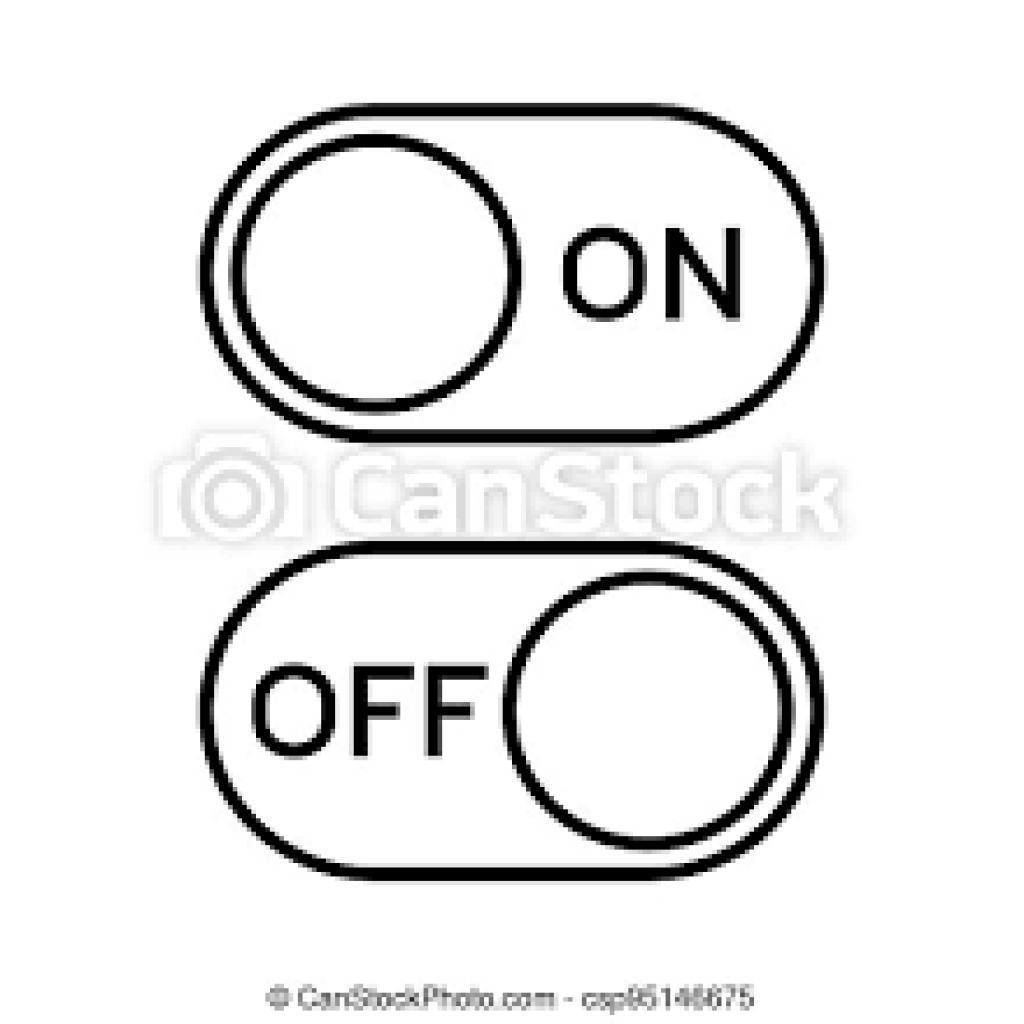switch: (188, 523, 837, 892), (192, 92, 837, 462)
